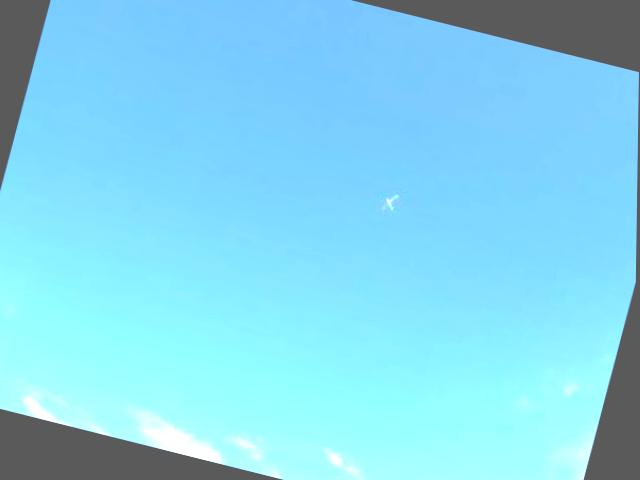uav: (373, 184, 407, 222)
